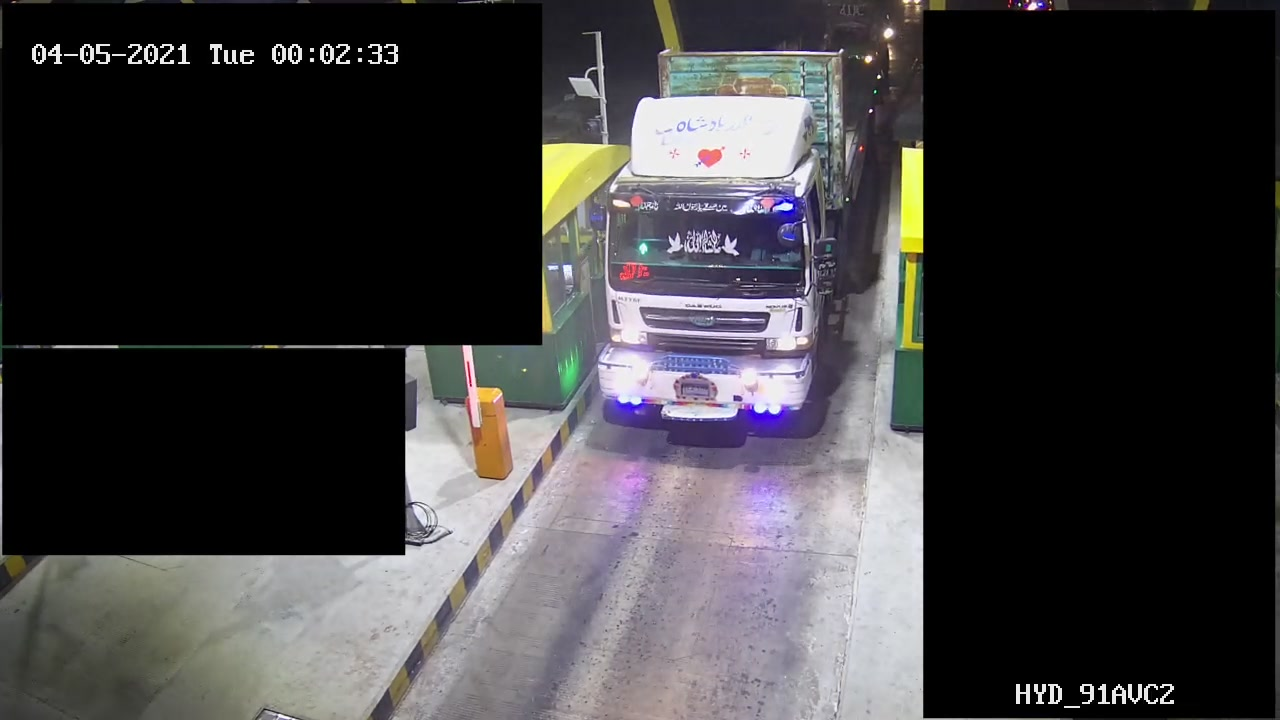F6: (584, 46, 871, 439)
